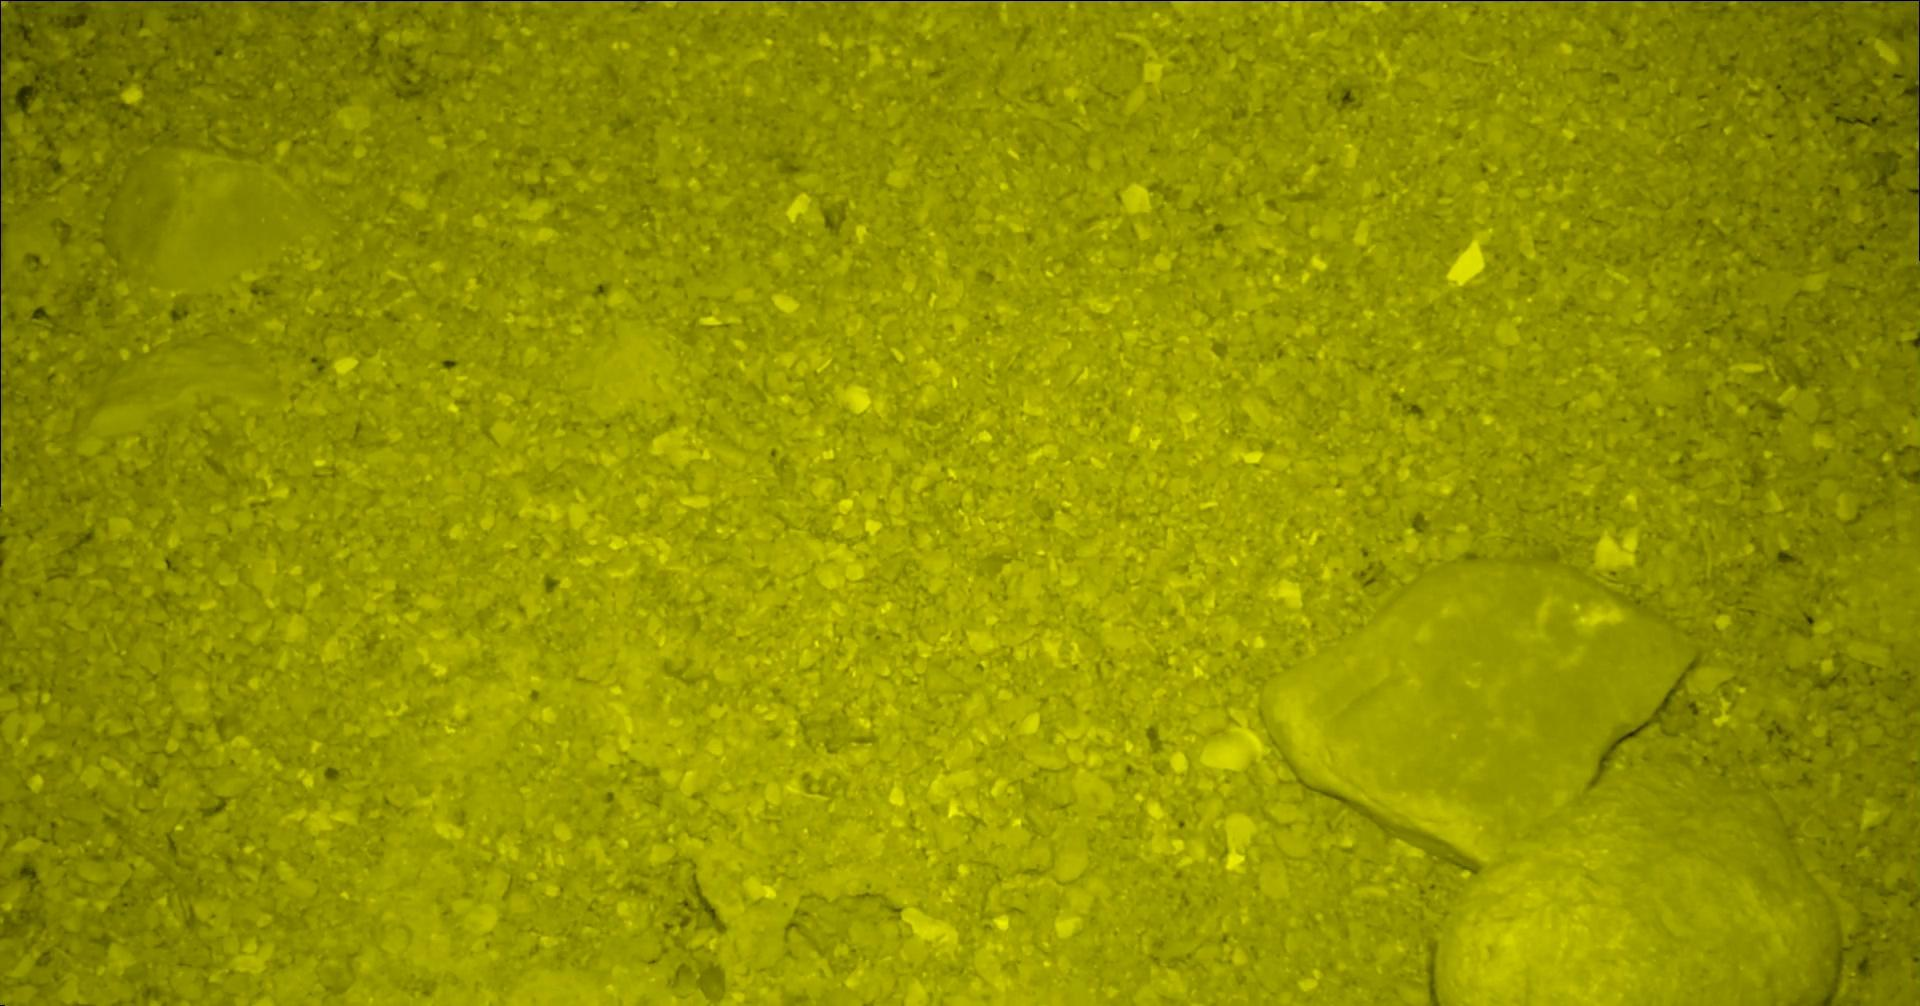ant: (1878, 0, 1920, 38), (9, 0, 102, 1), (110, 0, 189, 1), (1, 81, 3, 142), (1756, 0, 1810, 1)
